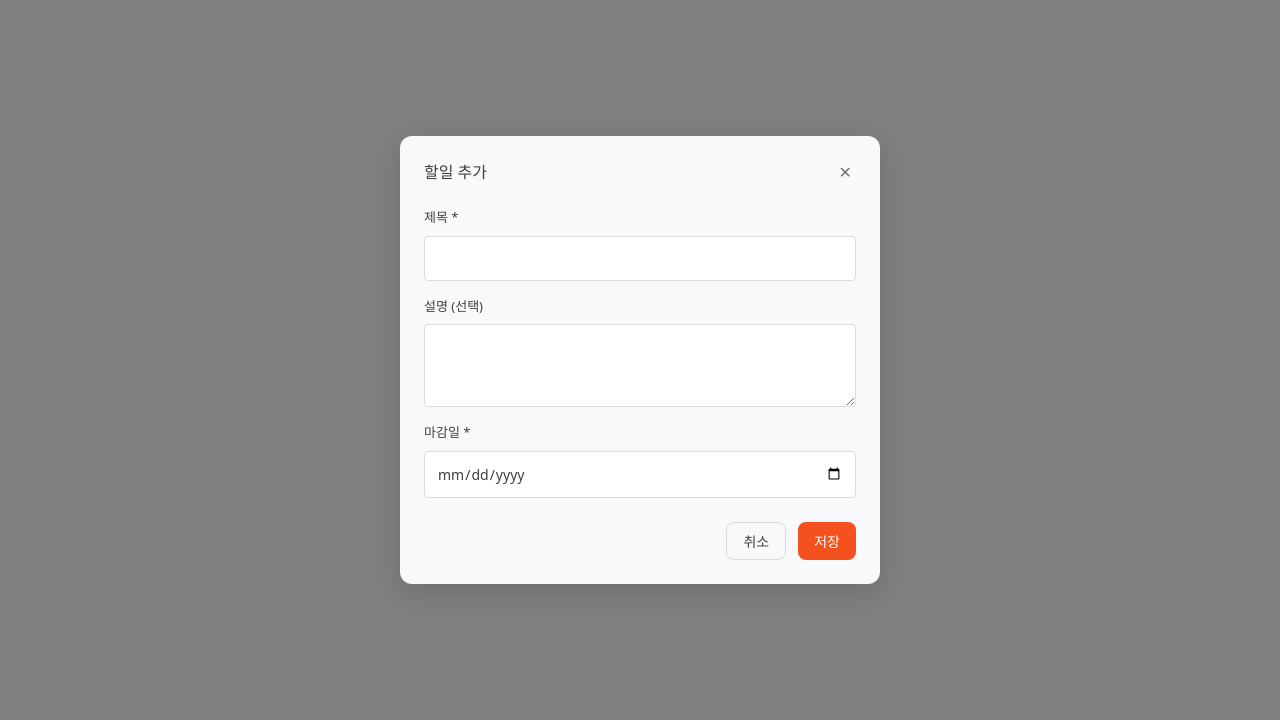
Test: TodoFormModal › 제출 중에 저장 버튼이 비활성화되고 텍스트가 변경된다
Step 1. Type "새 할일" into the field labelled "제목 *" → point(640, 258), box [424,236,856,281]
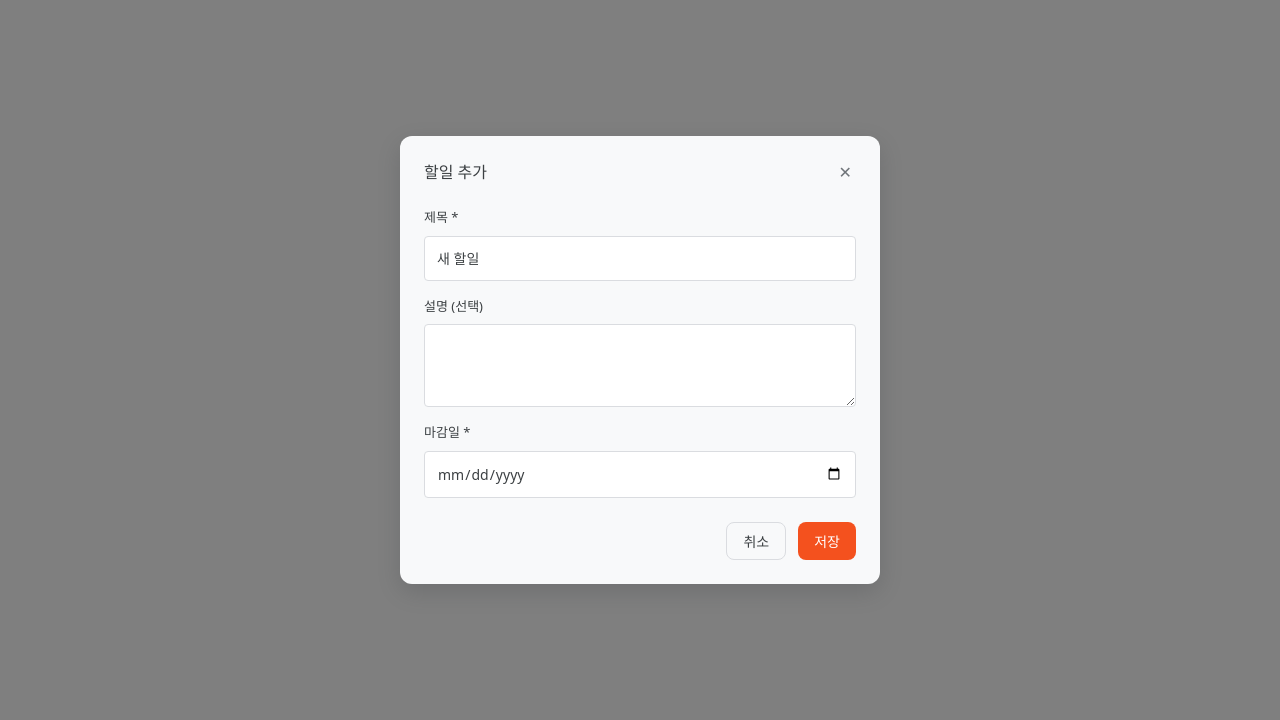
Step 2. Type "2026-03-01" into the date field labelled "마감일 *" → point(640, 474), box [424,451,856,498]
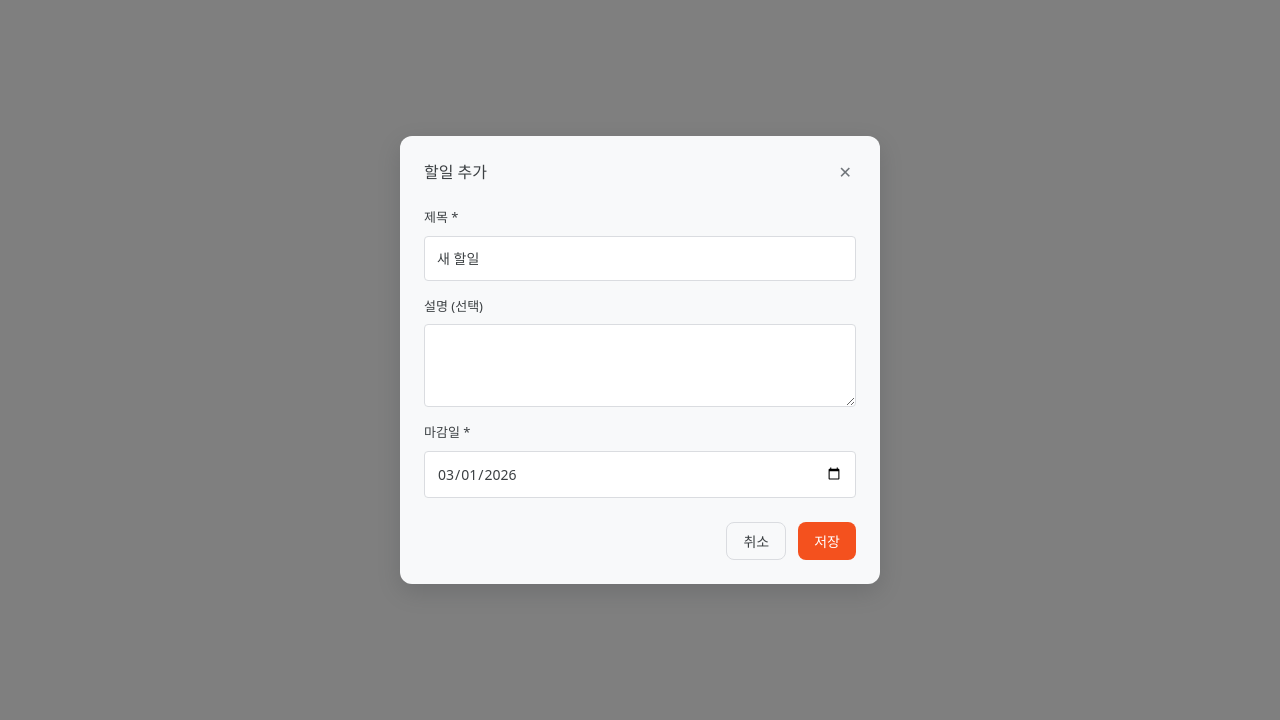
Step 3. Submit the form, box [424,208,856,560]
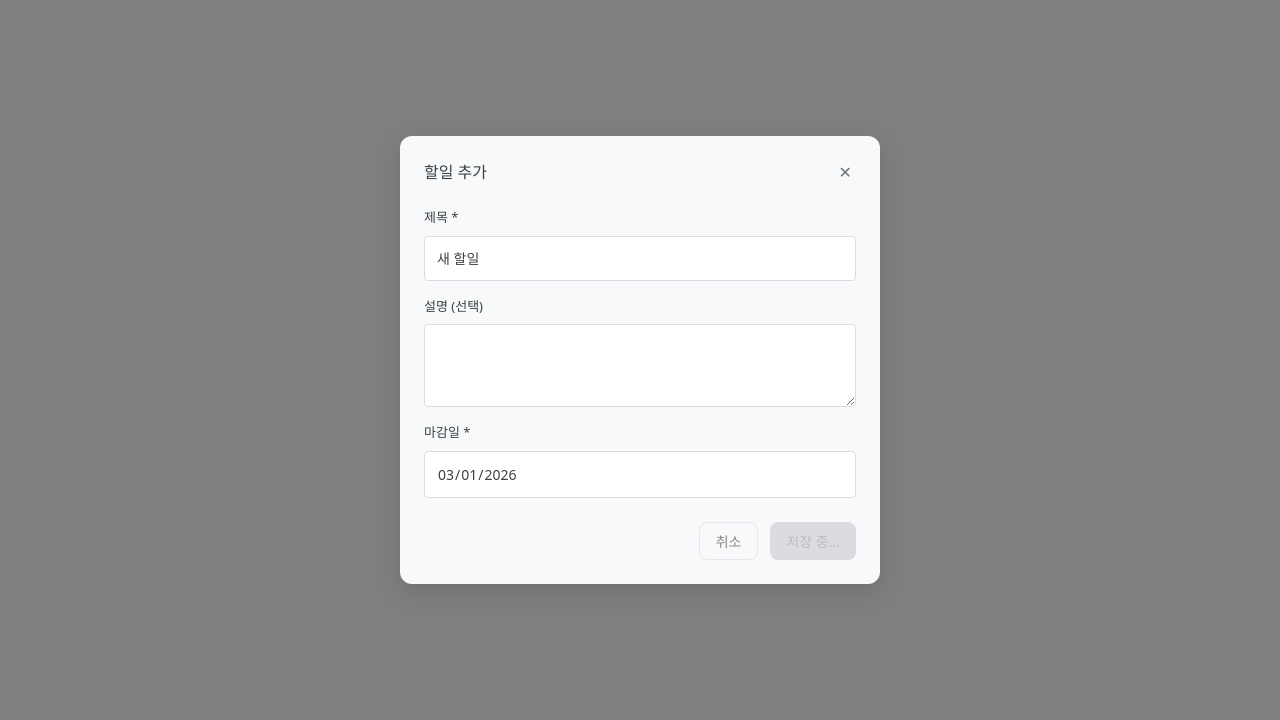
Expected: the button "저장 중..." is disabled, [770,522,856,560]
